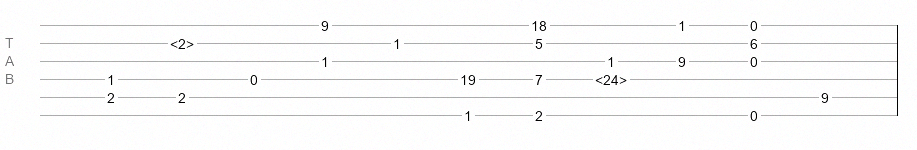0: (250, 72, 258, 82), (750, 108, 758, 118), (750, 18, 758, 28), (750, 54, 758, 64)
1: (107, 72, 115, 82), (321, 54, 329, 64), (393, 36, 401, 46), (464, 108, 472, 118), (607, 54, 615, 64), (678, 18, 686, 28)
18: (531, 18, 547, 28)
19: (460, 72, 476, 82)
2: (107, 90, 115, 100), (178, 90, 186, 100), (535, 108, 543, 118)
5: (535, 36, 543, 46)
6: (750, 36, 758, 46)
7: (535, 72, 543, 82)
9: (321, 18, 329, 28), (678, 54, 686, 64), (821, 90, 829, 100)
harmonic: (595, 72, 627, 82), (170, 36, 194, 46)
